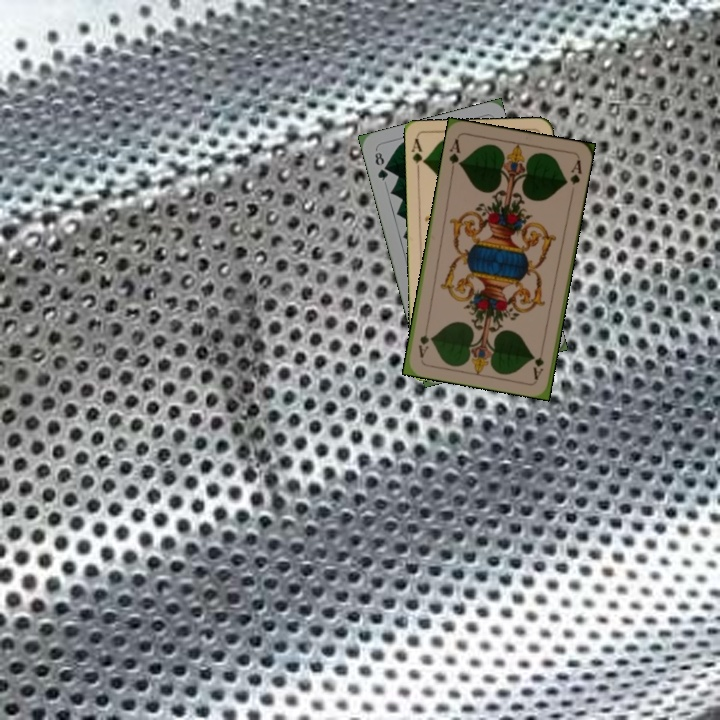G8: (371, 148, 391, 183)
GA: (408, 135, 428, 176), (445, 135, 464, 175), (529, 341, 546, 382)
